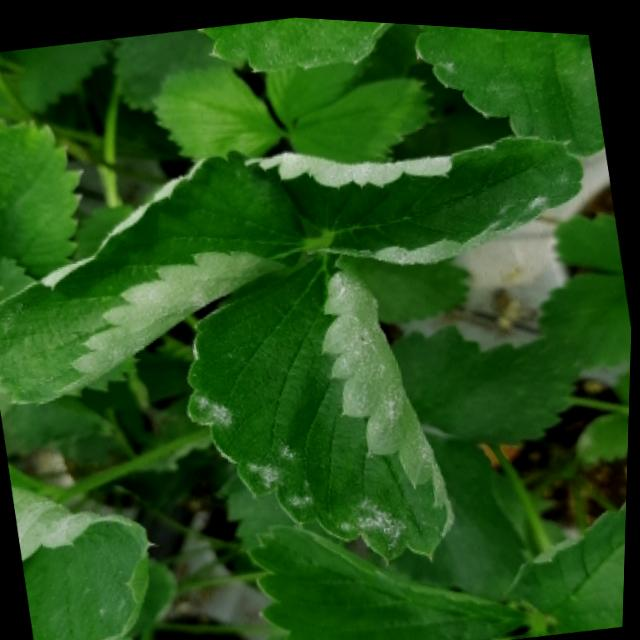Powdery Mildew Leaf: (186, 244, 458, 562), (0, 146, 320, 407), (242, 127, 586, 260), (411, 19, 605, 153), (12, 481, 153, 640), (510, 487, 629, 627)
